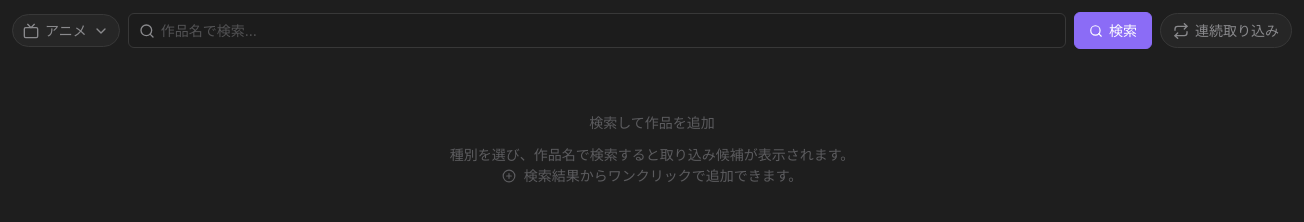
Test: MediaSearchPage › shows only the API key empty state when search returns API_KEY_NOT_CONFIGURED
Click the button with aria-label "メディア種別". click: (66, 30)
box: x1=12 y1=14 x2=120 y2=47
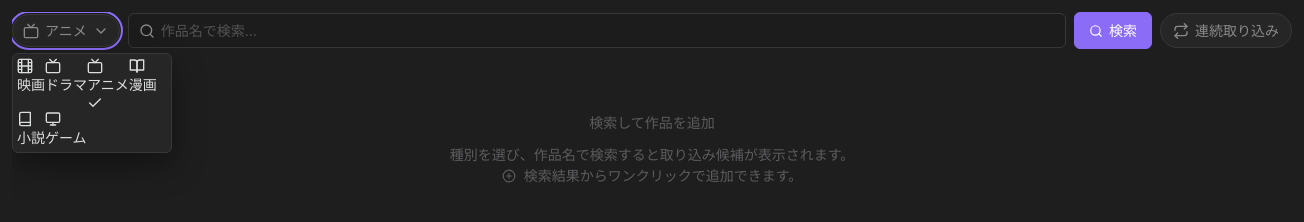
Click the option "映画". click: (31, 76)
box: x1=17 y1=58 x2=45 y2=95
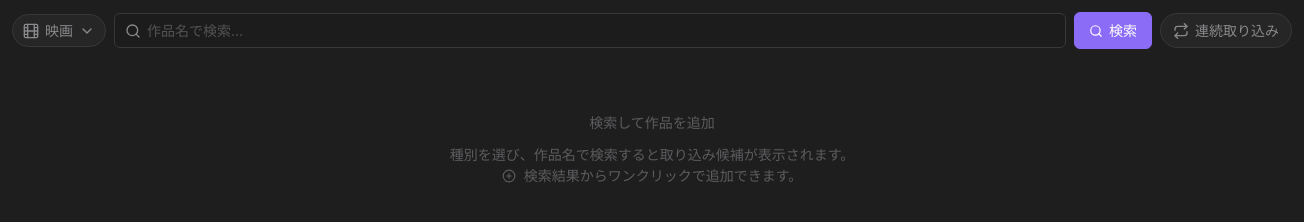
Type "インセプション" into the field labelled "作品名". click: (601, 30)
box: x1=147 y1=20 x2=1055 y2=41
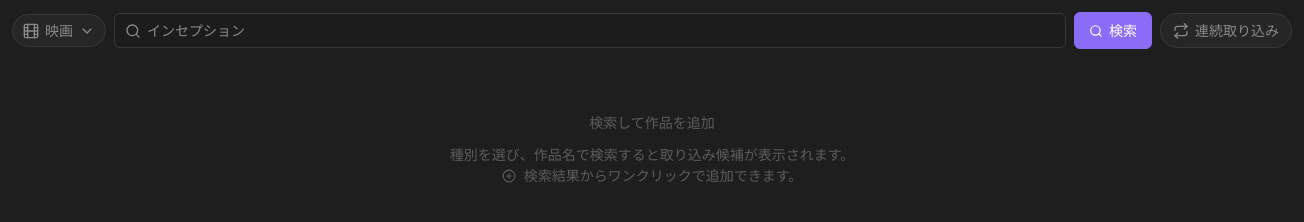
Click the button "検索". click: (1113, 30)
box: x1=1074 y1=12 x2=1152 y2=49
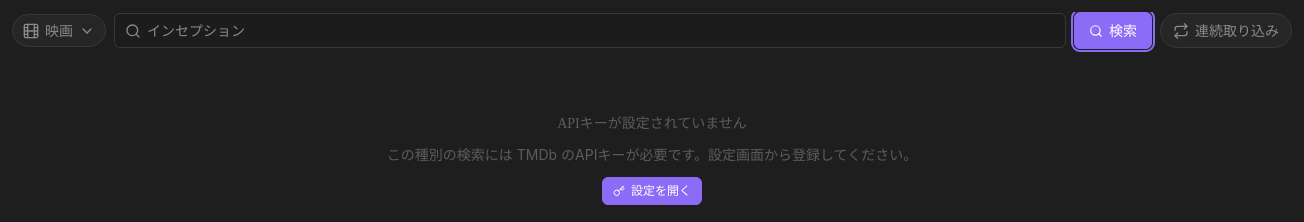
expect the heading "APIキーが設定されていません" is shown: met, box x1=557 y1=116 x2=747 y2=131
expect the text "この種別の検索には TMDb のAPIキーが必要です。設定画面から登録してください。" is shown: met, box x1=387 y1=146 x2=917 y2=163
